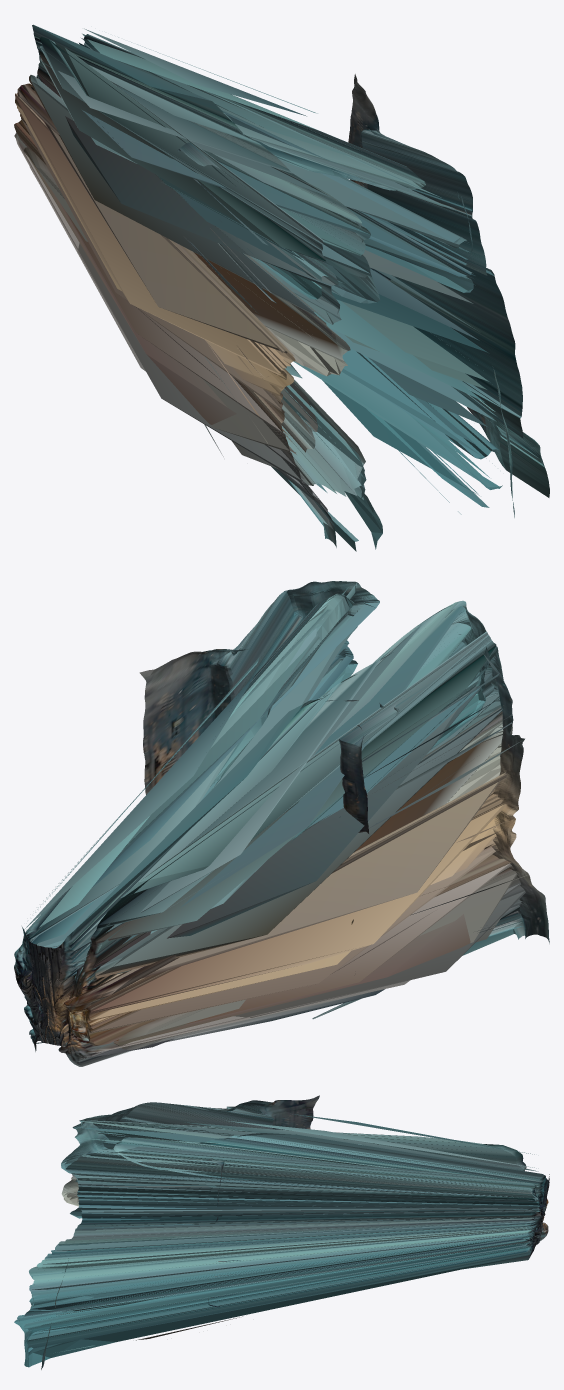
Rendered from agatha_vggt.glb.
The picture shows the model from 3 angles, top to bottom: view 1: azimuth 30°, elevation 25°; view 2: azimuth 150°, elevation 25°; view 3: azimuth 270°, elevation 25°; orthographic projection. The views are drawn at different scales.
Parts seen in each view (by area): view 1: vggt_1b_surface; view 2: vggt_1b_surface; view 3: vggt_1b_surface.
Part boxes in pixels (x1,y1,x2,y2): vggt_1b_surface: (14, 24, 549, 551); vggt_1b_surface: (14, 581, 549, 1066); vggt_1b_surface: (14, 1095, 549, 1369).
Size of the model in its own units: 4.73 by 5.46 by 11.47.
